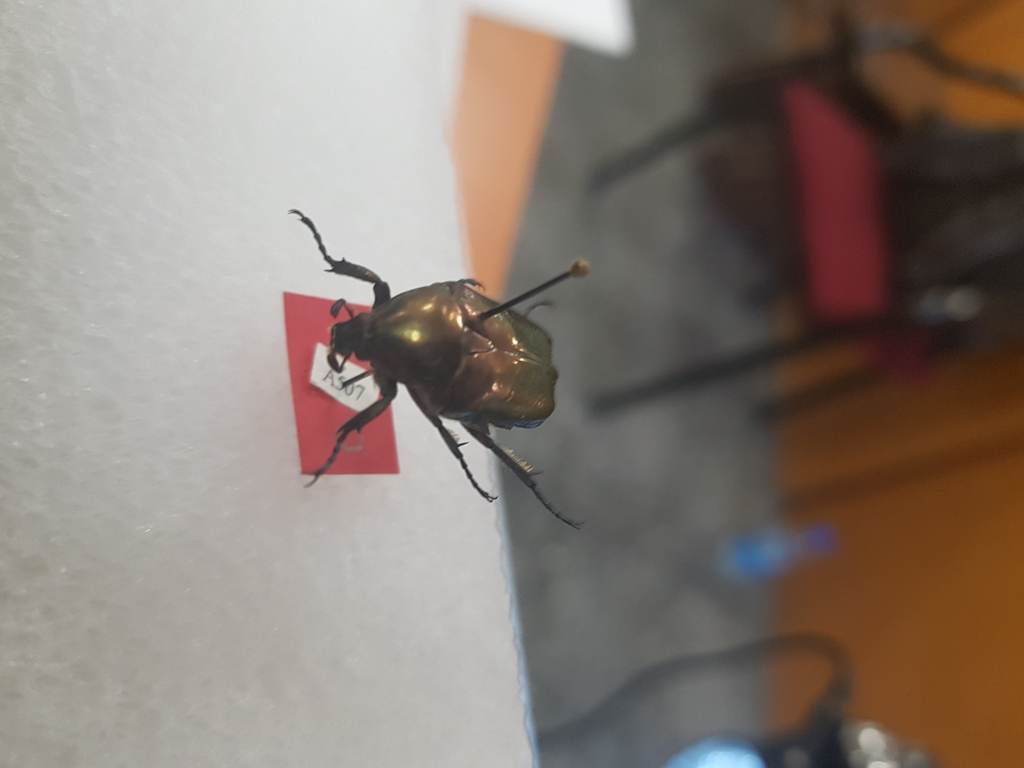Protaetia_besucheti: (281, 198, 607, 547)
